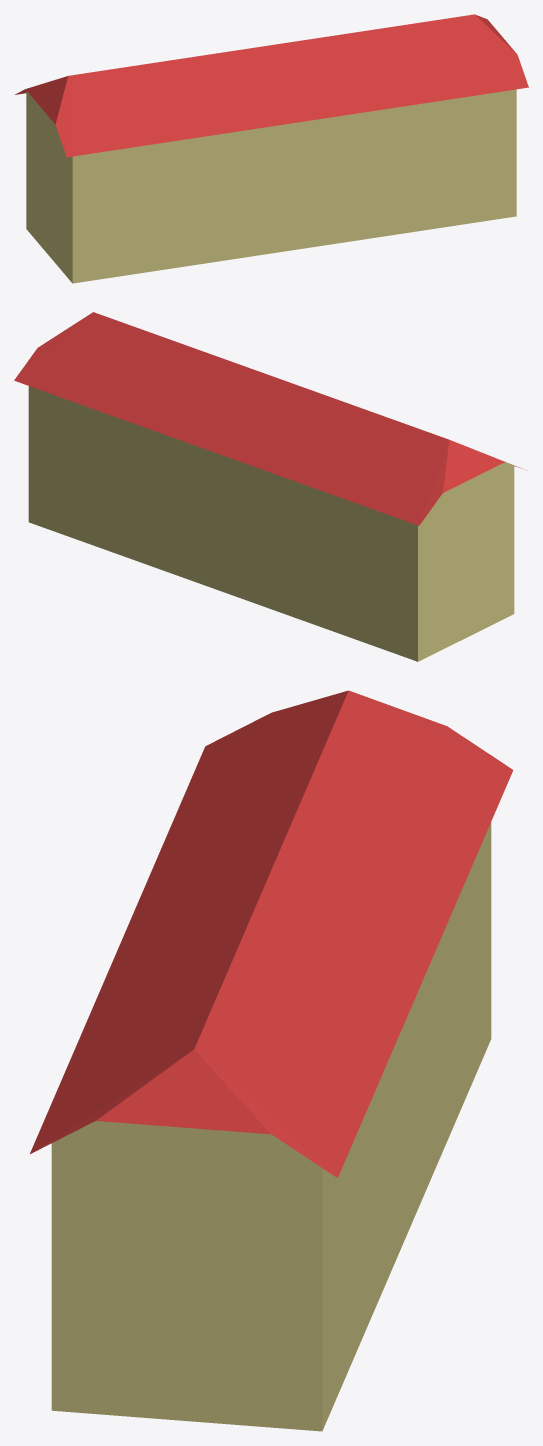
3 views of the same model, one above another, from view 1: azimuth 30°, elevation 25°; view 2: azimuth 150°, elevation 25°; view 3: azimuth 270°, elevation 25° (orthographic). The views are drawn at different scales.
Visible parts, largest first — view 1: group_5, group_3, group_4; view 2: group_5, group_3, group_4; view 3: group_5, group_3, group_4.
Part boxes in pixels (x1,y1,x2,y2): group_5: [26, 89, 516, 283]; group_3: [15, 14, 528, 156]; group_4: [62, 29, 528, 157]; group_5: [28, 386, 514, 661]; group_3: [14, 312, 526, 525]; group_4: [14, 339, 442, 525]; group_5: [51, 822, 491, 1431]; group_3: [31, 690, 511, 1177]; group_4: [30, 726, 513, 1177].
Size of the model in its own units: 40.12 by 19 by 15.38.
